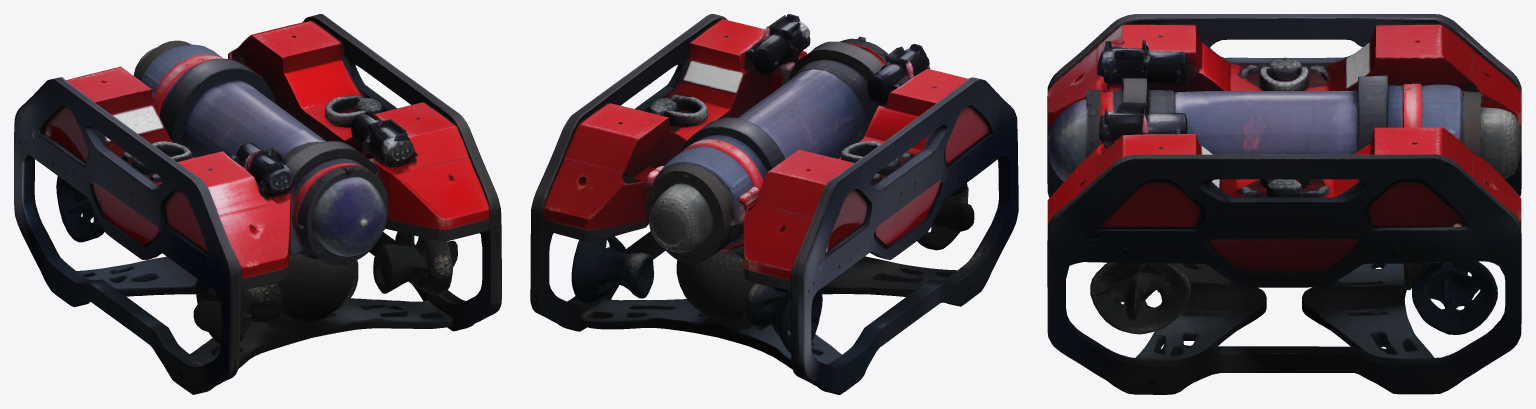
File: Rov.glb
3 renders of one model, left to right at view 1: azimuth 30°, elevation 25°; view 2: azimuth 150°, elevation 25°; view 3: azimuth 270°, elevation 25°, orthographic. The views are drawn at different scales.
Visible parts, largest first — view 1: world; view 2: world; view 3: world.
Boxes of the visible parts, x1,y1,x2,y2 form: world: (14,14,501,394); world: (530,14,1018,394); world: (1047,14,1521,394).
Bounding box in the file's own units: 0.7368 × 0.5709 × 1.
1 material, 1 textured.
